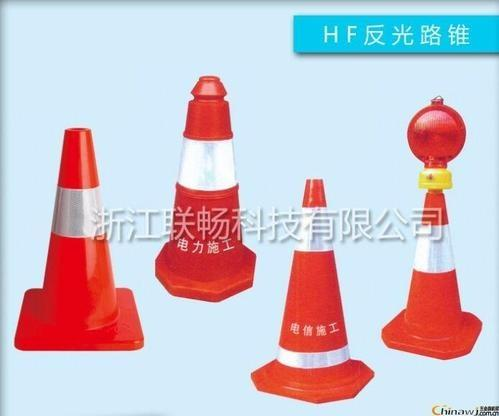cone_barrel: (152, 74, 258, 300), (259, 175, 364, 395), (21, 132, 126, 344), (388, 145, 476, 356)
